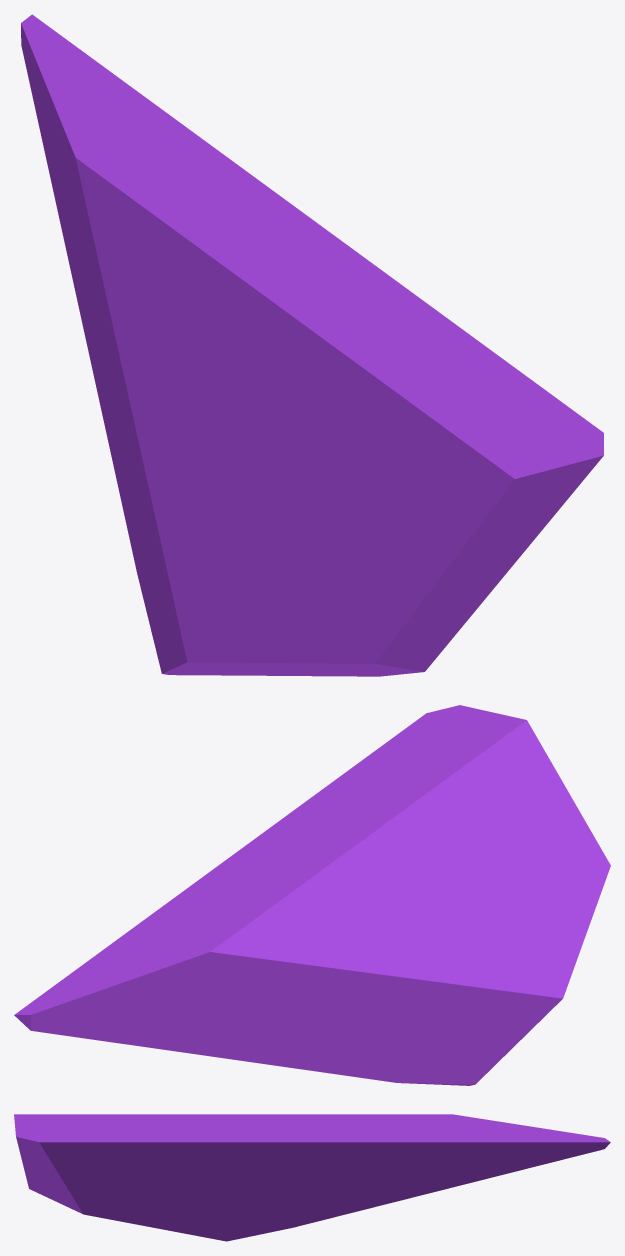
File: Window_113_3_chunks.fbx
3 renders of one model, top to bottom at view 1: azimuth 30°, elevation 25°; view 2: azimuth 150°, elevation 25°; view 3: azimuth 270°, elevation 25°, orthographic. The views are drawn at different scales.
Parts seen in each view (by area): view 1: Window_113_3_2, Window_113_3_1, Window_113_3_0, Window_113_3_3, Window_113_3_5, Window_113_3_6; view 2: Window_113_3_1, Window_113_3_2, Window_113_3_0, Window_113_3_3, Window_113_3_6, Window_113_3_5; view 3: Window_113_3_2, Window_113_3_3, Window_113_3_0, Window_113_3_1, Window_113_3_6, Window_113_3_5, Window_113_3_4.
Part boxes in pixels (x1,y1,x2,y2): Window_113_3_2: (196, 297, 603, 666); Window_113_3_1: (38, 88, 230, 611); Window_113_3_0: (146, 507, 448, 676); Window_113_3_3: (139, 196, 450, 333); Window_113_3_5: (113, 74, 305, 214); Window_113_3_6: (21, 14, 146, 197); Window_113_3_1: (84, 886, 485, 1083); Window_113_3_2: (316, 705, 610, 953); Window_113_3_0: (426, 888, 602, 1085); Window_113_3_3: (212, 794, 362, 920); Window_113_3_6: (14, 919, 246, 1038); Window_113_3_5: (73, 870, 240, 971); Window_113_3_2: (14, 1114, 262, 1187); Window_113_3_3: (191, 1114, 396, 1192); Window_113_3_0: (27, 1179, 268, 1241); Window_113_3_1: (258, 1114, 558, 1232); Window_113_3_6: (396, 1116, 610, 1175); Window_113_3_5: (337, 1118, 528, 1158); Window_113_3_4: (355, 1153, 424, 1182).
Size of the model in its own units: 233 by 235 by 796.
